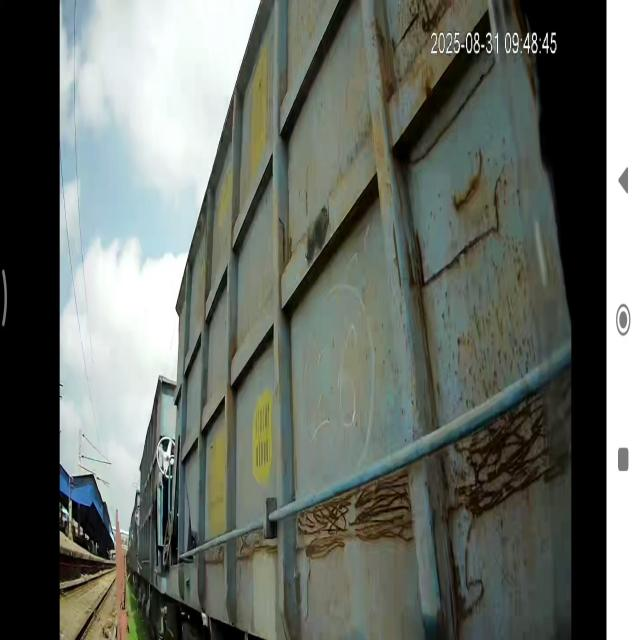coach: (183, 4, 576, 640)
